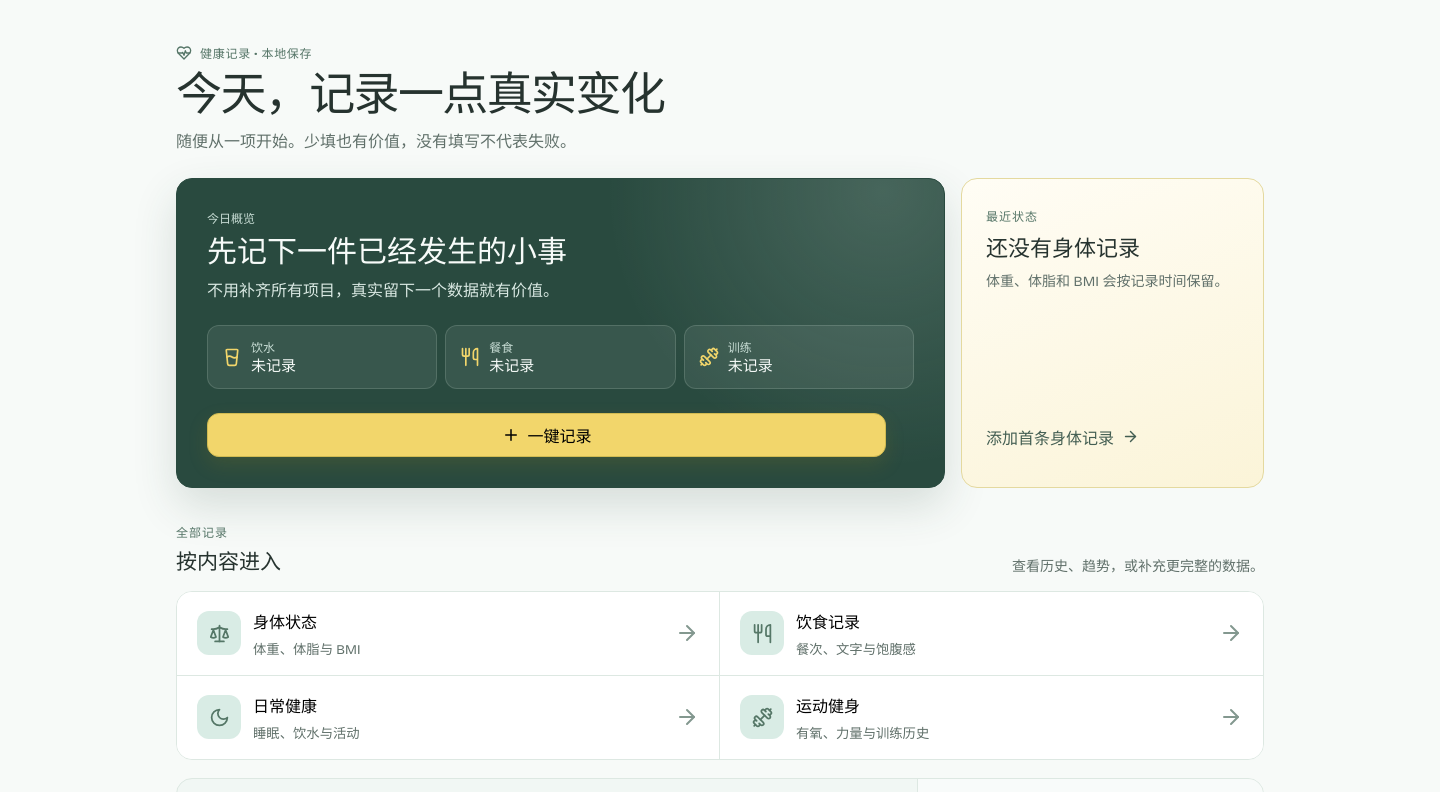
Test: health revision 2083 workspaces › builds a three-phase workout from the searchable exercise library before starting
This screenshot has width=1440, height=792.
Click the button "运动健身 有氧、力量与训练历史". click: (762, 717)
box: top-left (720, 676), bottom-right (1263, 759)
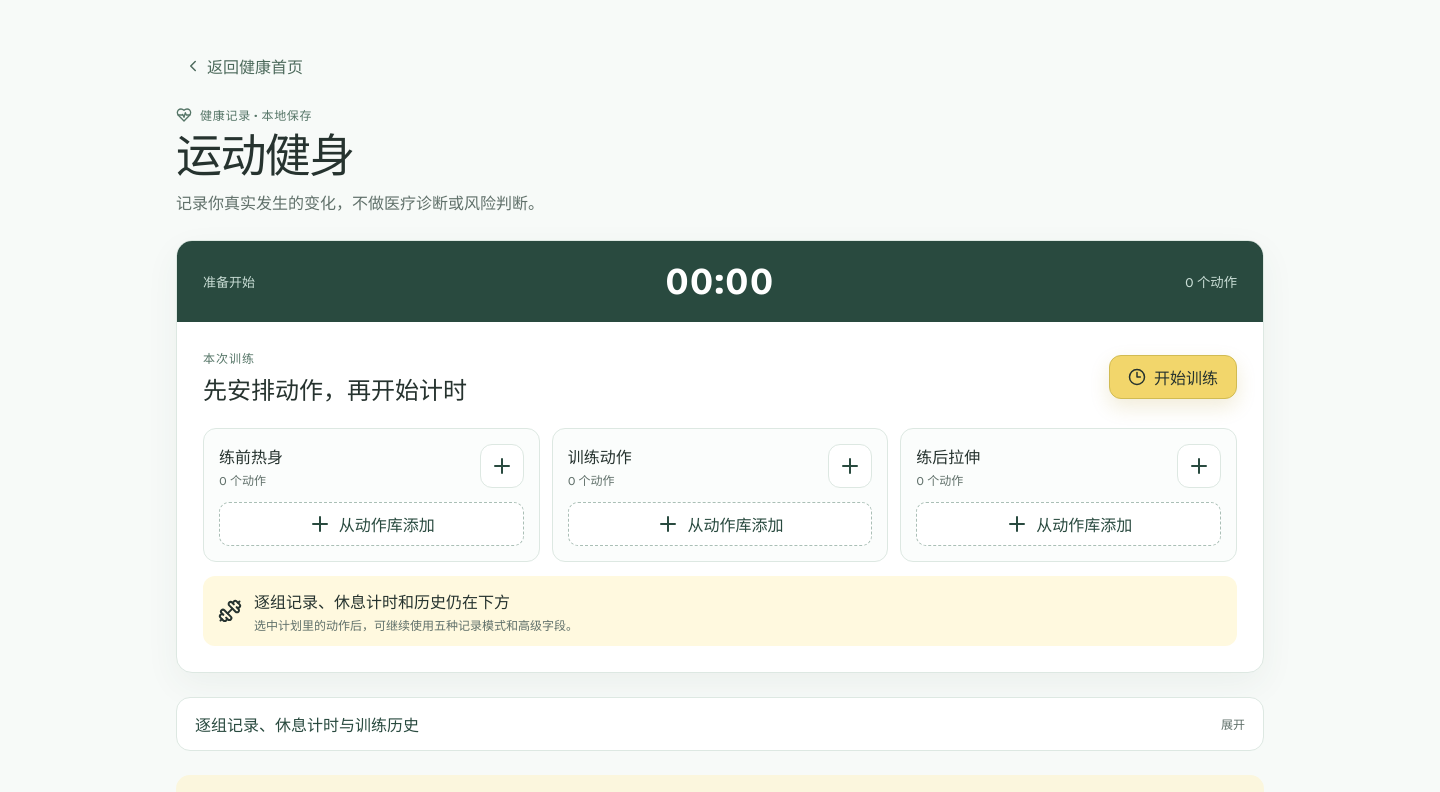
Expected: the text "00:00" is shown, top-left (665, 259), bottom-right (774, 304)
Expected: the text "练前热身" is shown, top-left (219, 444), bottom-right (283, 468)
Expected: the text "训练动作" is shown, top-left (568, 444), bottom-right (632, 468)
Click the button named "添加训练动作". click: (850, 466)
box: top-left (828, 444), bottom-right (872, 488)
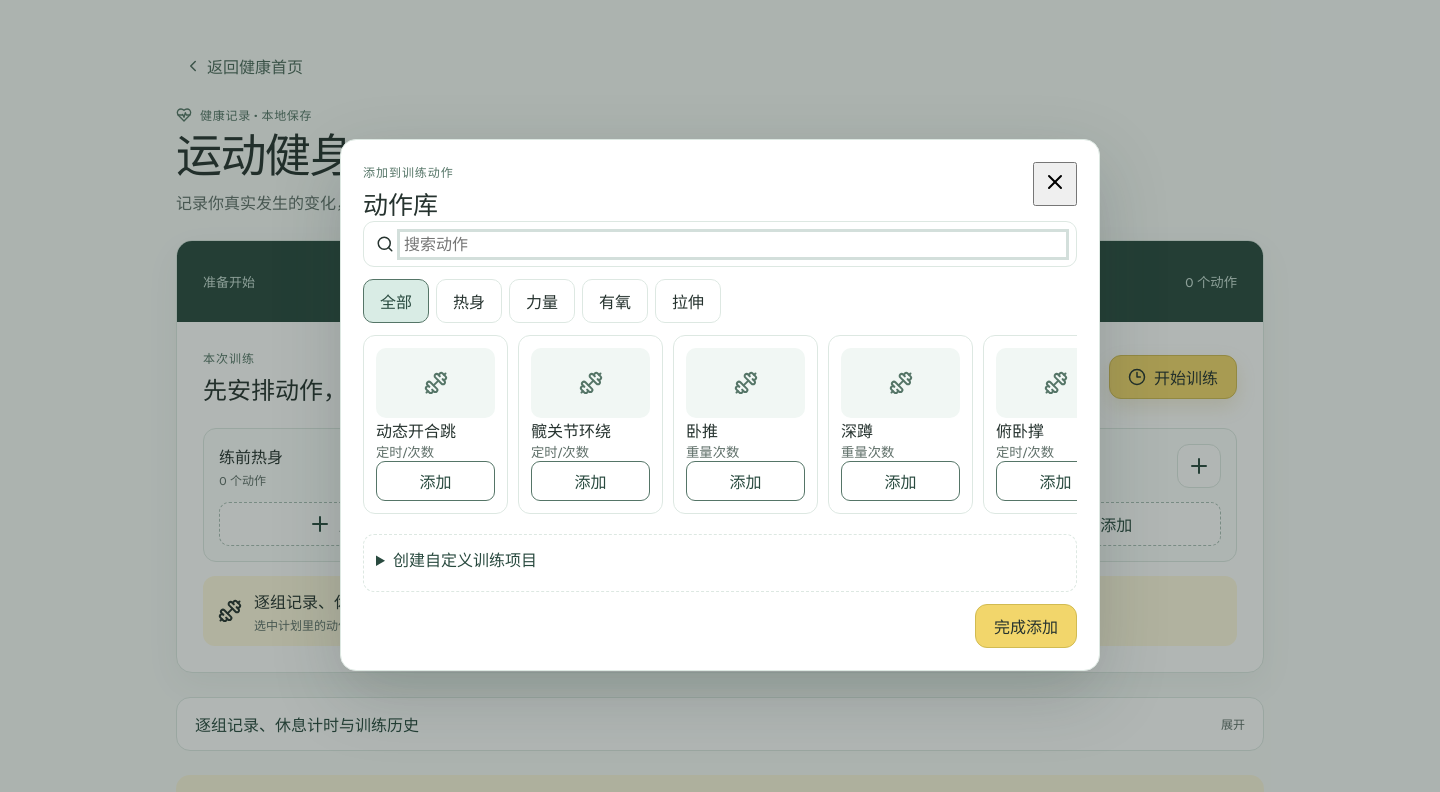
Type "卧推" into the field labelled "搜索动作". click: (733, 244)
box: top-left (402, 234), bottom-right (1064, 254)
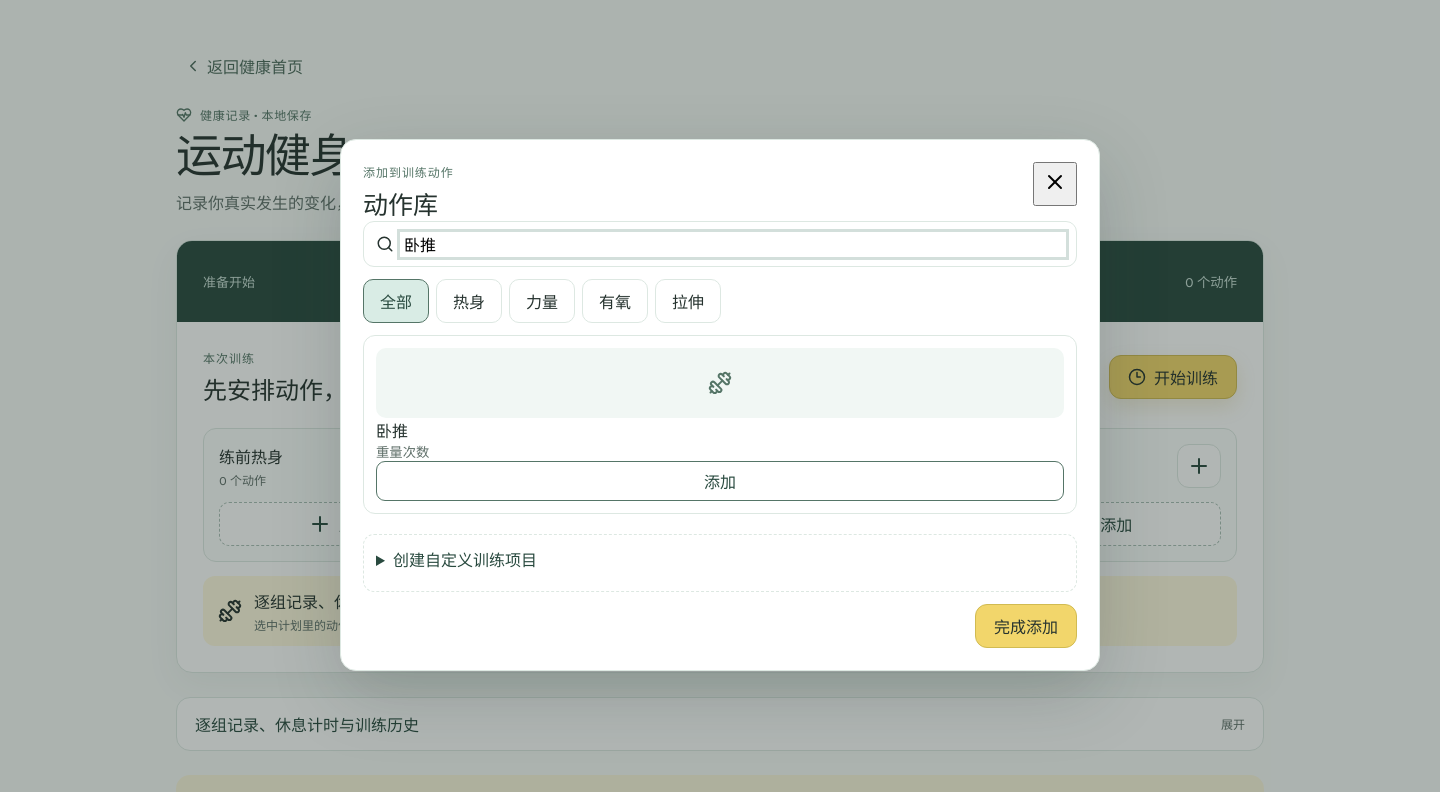
Click the button "添加". click: (720, 481)
box: top-left (376, 461), bottom-right (1064, 501)
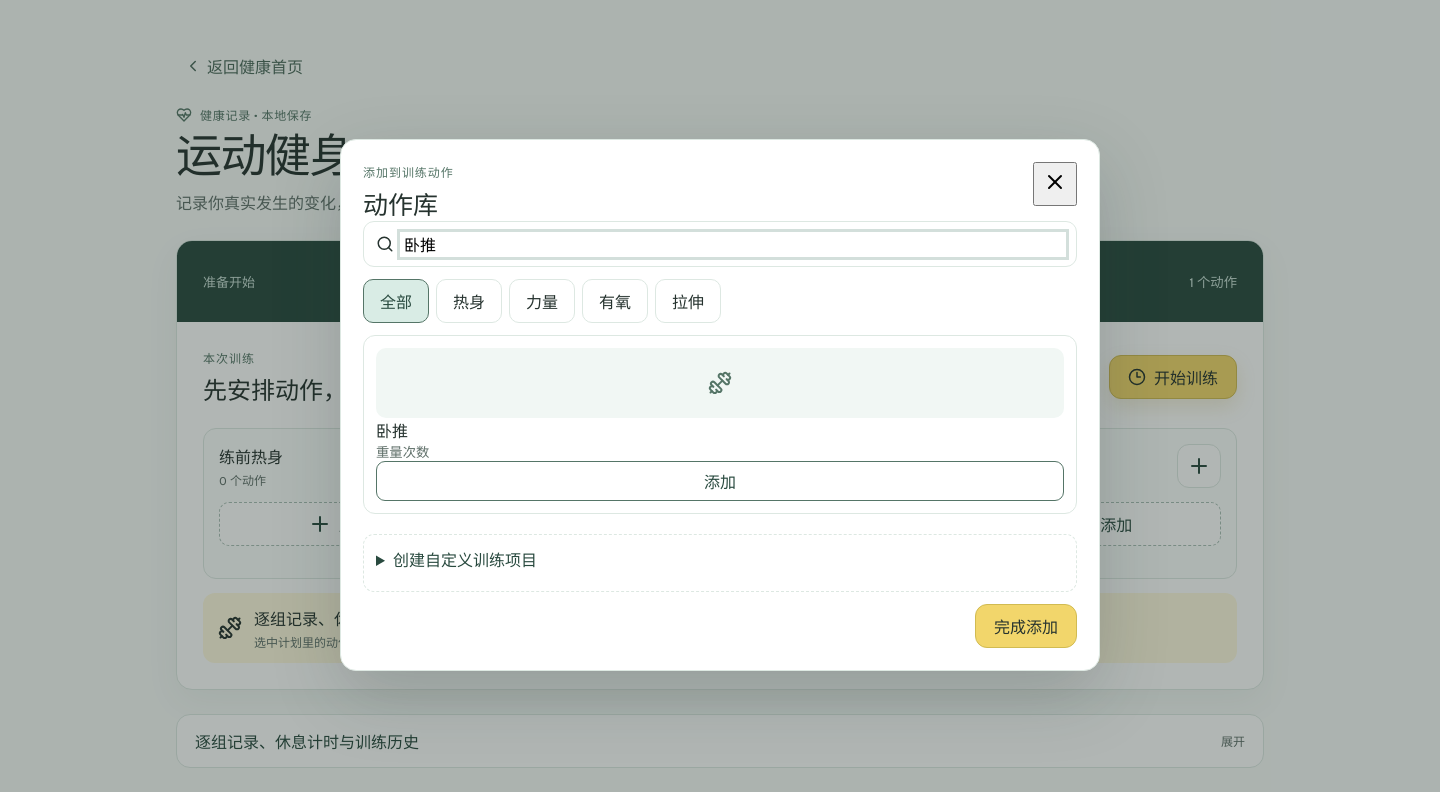
Click the button "完成添加". click: (1026, 626)
box: top-left (975, 604), bottom-right (1077, 648)
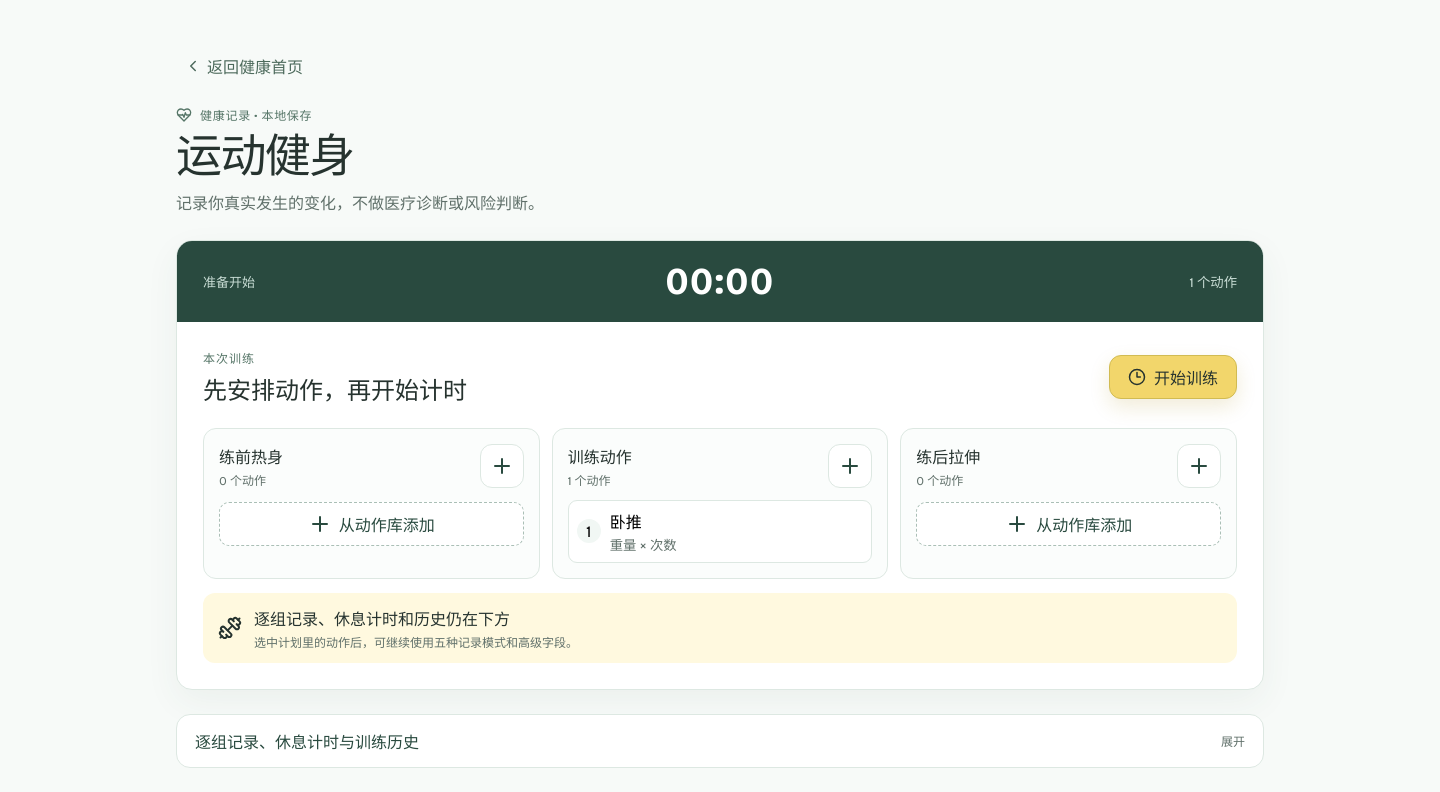
Click the button "开始训练". click: (1173, 377)
box: top-left (1109, 355), bottom-right (1237, 399)
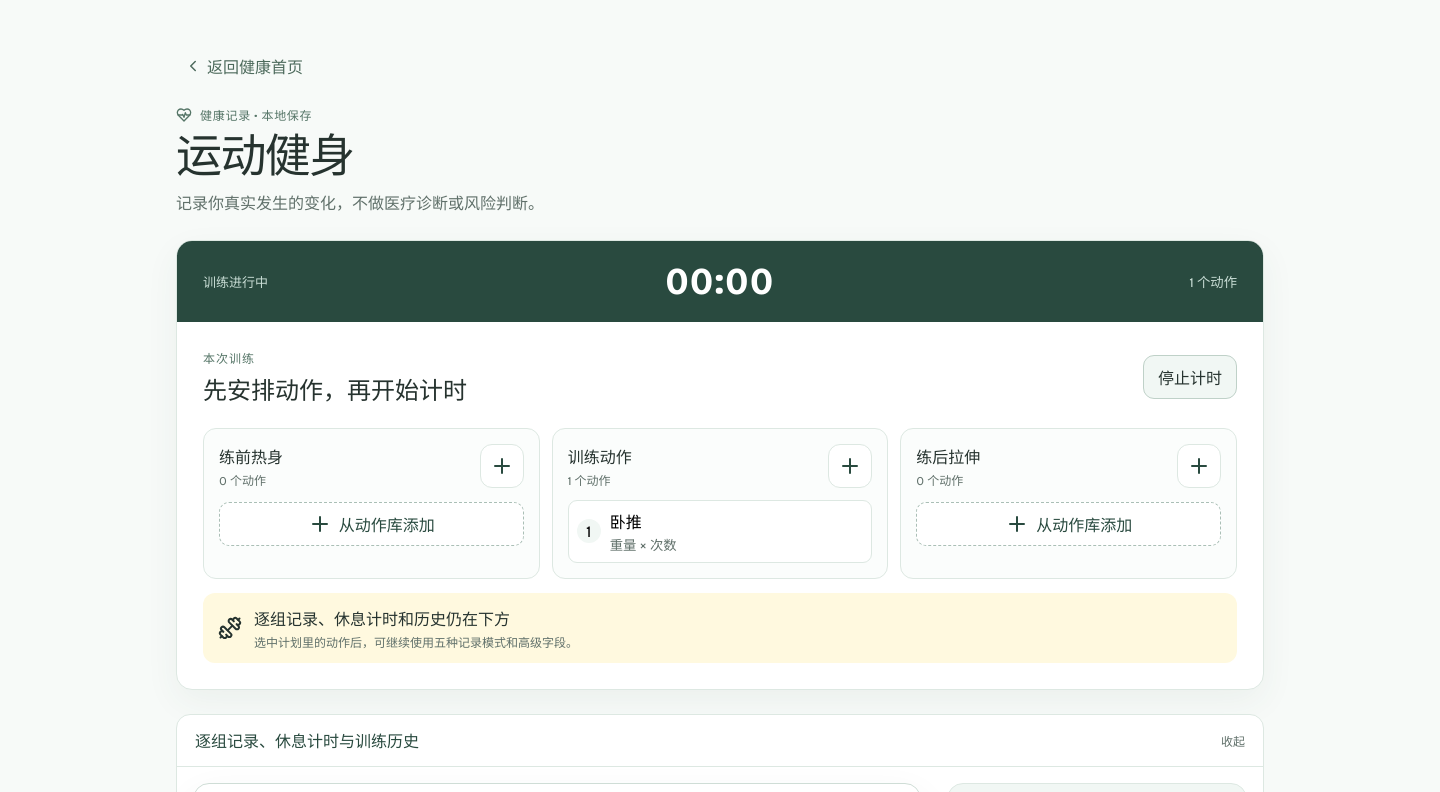
Expected: the text "卧推" is shown, top-left (610, 513), bottom-right (642, 532)
Expected: the text "训练进行中" is shown, top-left (203, 275), bottom-right (268, 291)
